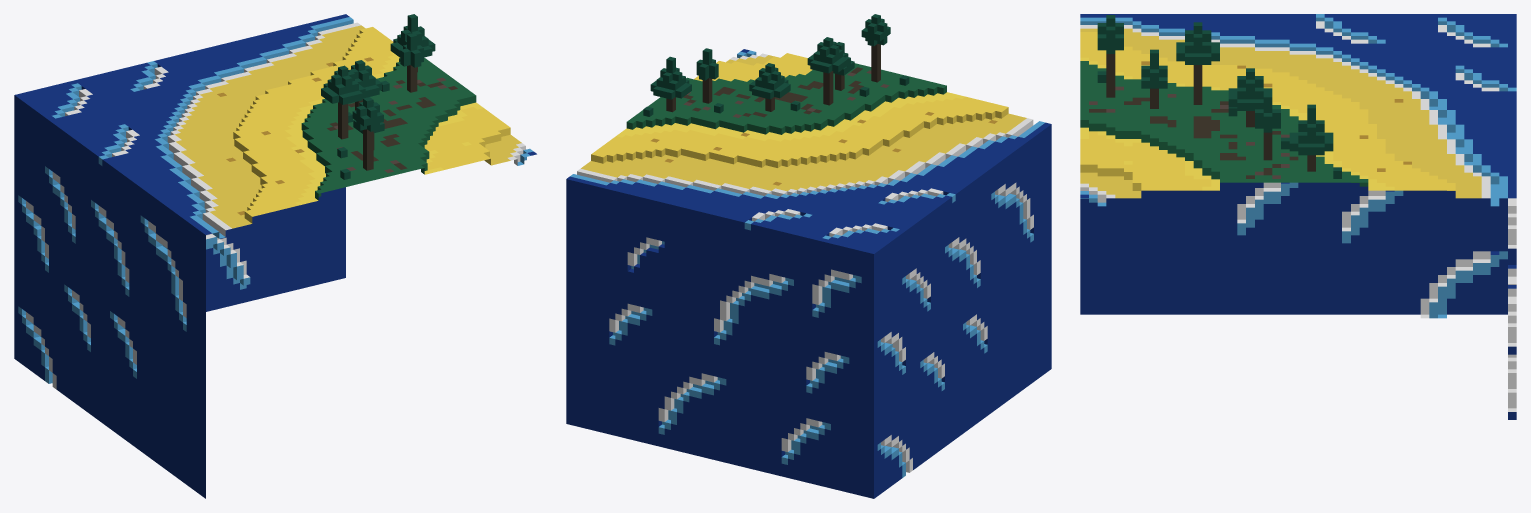
The model's file is 2sides1corner.obj.
3 renders of one model, left to right at view 1: azimuth 30°, elevation 25°; view 2: azimuth 150°, elevation 25°; view 3: azimuth 270°, elevation 25°, orthographic. The views are drawn at different scales.
Parts seen in each view (by area): view 1: Untitled.005; view 2: Untitled.005; view 3: Untitled.005.
Part boxes in pixels (x1,y1,x2,y2): Untitled.005: (14, 14, 536, 498); Untitled.005: (566, 14, 1051, 498); Untitled.005: (1080, 14, 1516, 419).
Size of the model in its own units: 5 by 5 by 5.
Materials: 1 (1 with a texture image).
